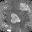people: (10, 13, 21, 24)
